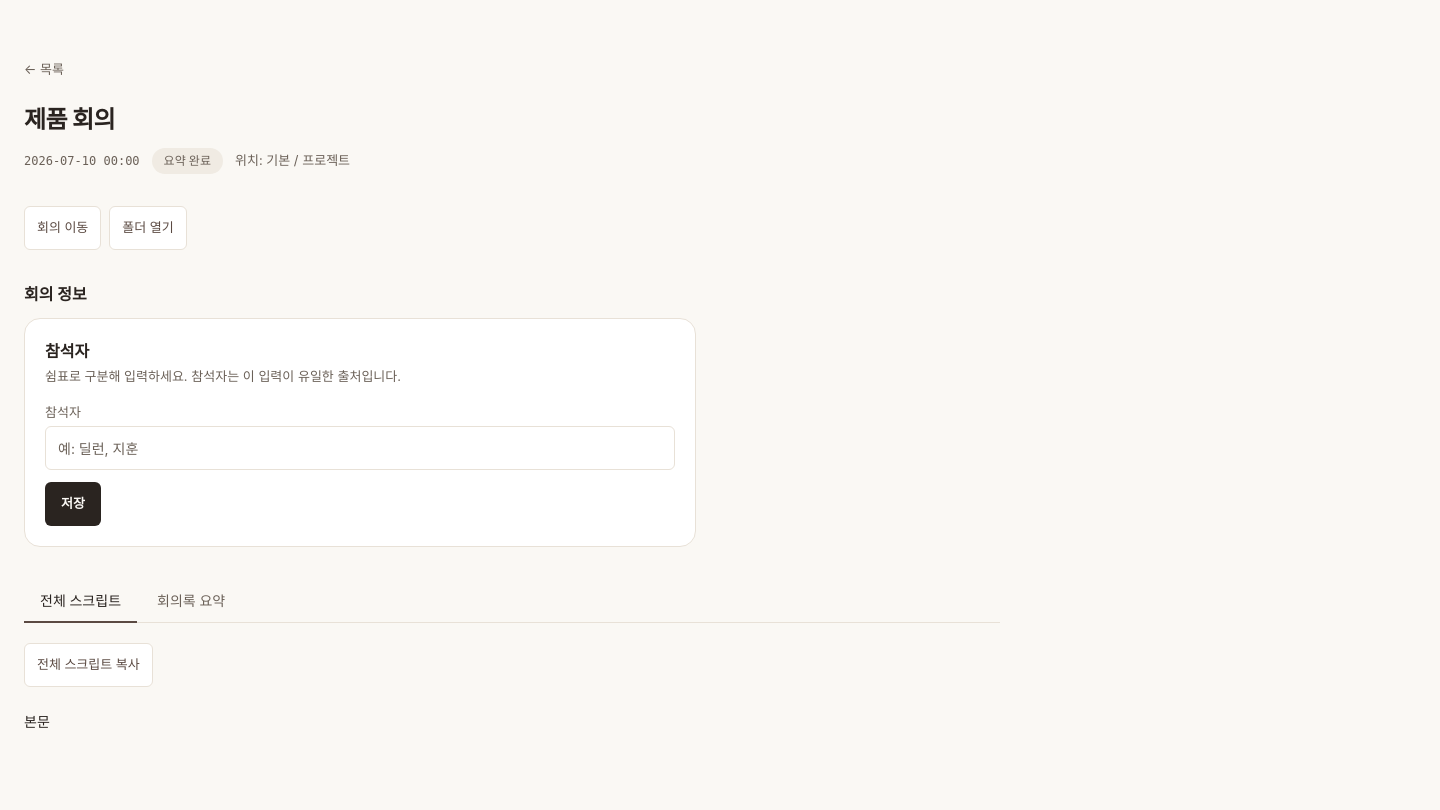
Test: activated library navigation › updates a detail source to the authoritative cross-workspace destination after move
The image size is (1440, 810).
Click the button "회의 이동": (63, 228) [24,206,101,250]
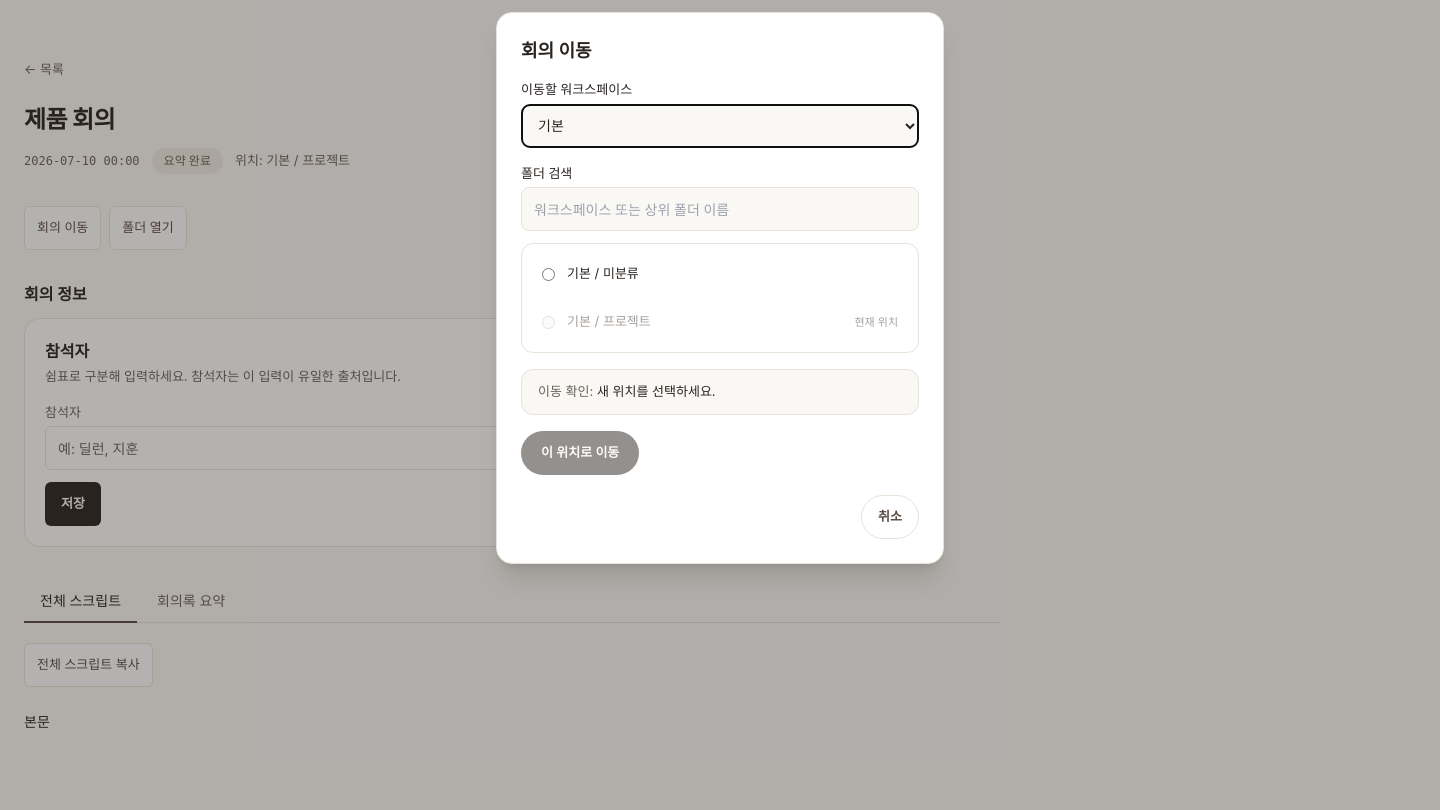
Select "업무" in the dropdown labelled "이동할 워크스페이스": (720, 126) [521,104,919,148]
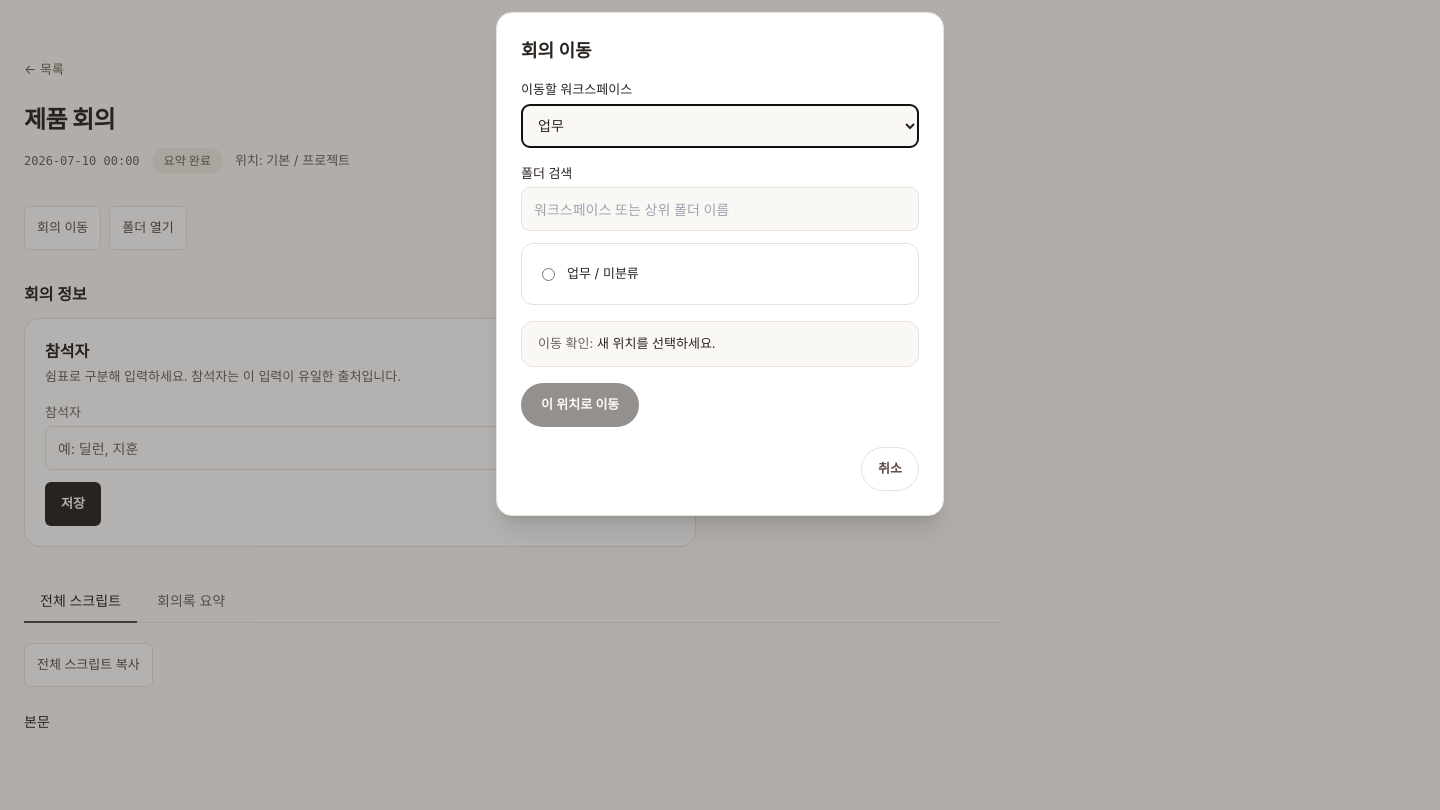
Click the radio button labelled "업무 / 미분류": (548, 274) [542,268,555,280]
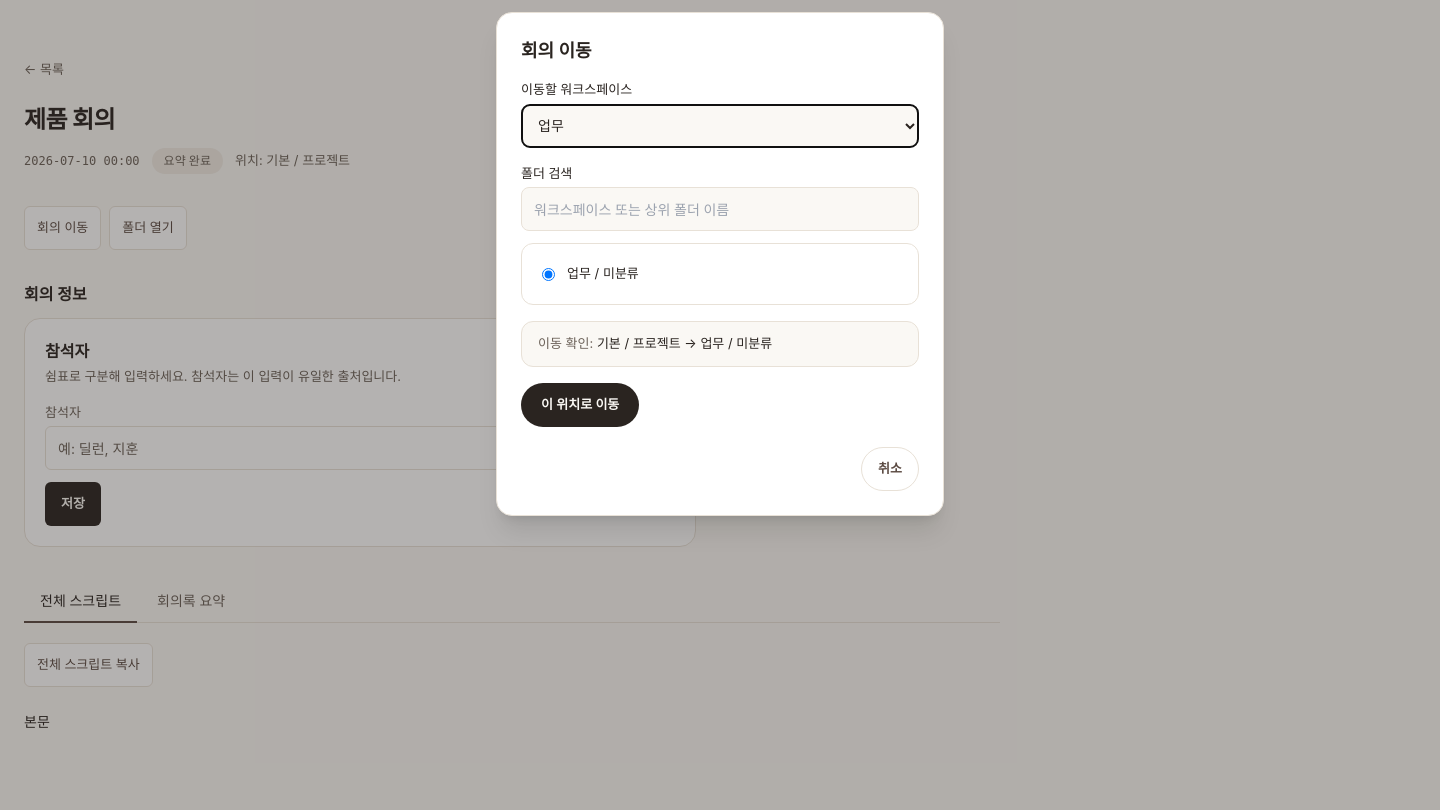
Click the button "이 위치로 이동": (580, 404) [521,382,639,426]
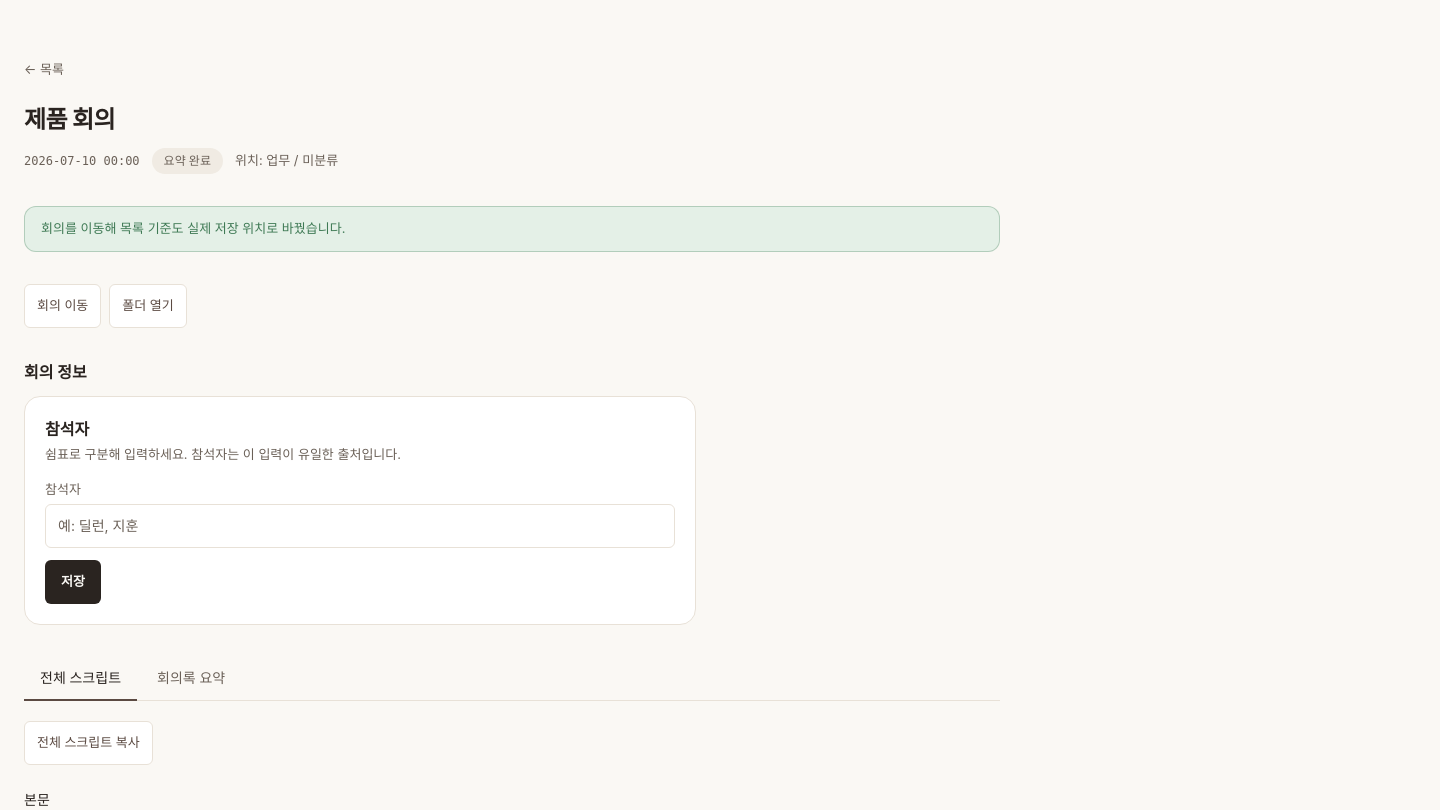
expect the text "회의를 이동해 목록 기준도 실제 저장 위치로 바꿨습니다." is shown: met, box [24,206,1000,252]
